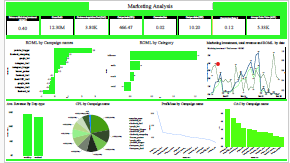

The dashboard page shown, as its layout file describes it:
{"tool":"powerbi","page":{"name":"Page 1","canvas":[3900,2200],"ordinal":0},"visuals":[{"type":"cardVisual","title":"Cost  per leads (CPL)","fields":{"Data":["KPI.CPL"]},"box":[1440,192,448,256],"z":0},{"type":"cardVisual","title":"Cost per clicks (CPC)","fields":{"Data":["KPI.CPC"]},"box":[2400,192,448,256],"z":1000},{"type":"cardVisual","title":"Return on Marketing Investment (ROML)","fields":{"Data":["KPI.ROMI"]},"box":[0,192,448,256],"z":2000},{"type":"cardVisual","title":"Average Order Value (AOV)","fields":{"Data":["KPI.AOV"]},"box":[3360,192,448,256],"z":3000},{"type":"cardVisual","title":"Conversion Rate","fields":{"Data":["KPI.Conversion rate"]},"box":[1920,192,448,256],"z":4000},{"type":"clusteredBarChart","fields":{"Y":["KPI.ROMI"],"Category":["Marketing.campaign_name"]},"box":[0,608,1376,736],"z":5000},{"type":"lineChart","fields":{"Y":["Dax Measures.Marketing investment","Dax Measures.Total revenue"],"Category":["Marketing.c_date.Variation.Date Hierarchy.Year"],"Y2":["KPI.ROMI"]},"box":[2780,608,1120,736],"z":6000},{"type":"clusteredBarChart","fields":{"Y":["KPI.ROMI"],"Category":["Marketing.category"]},"box":[1376,608,1408,736],"z":7000},{"type":"cardVisual","title":"Conversion Rate 2","fields":{"Data":["KPI.conversion 2"]},"box":[2880,192,448,256],"z":8000},{"type":"clusteredColumnChart","fields":{"Y":["Marketing.revenue"],"Category":["Calendar.daytype"]},"box":[0,1472,640,704],"z":9000},{"type":"textbox","box":[1152,0,1728,96],"z":10000},{"type":"textbox","box":[-4,512,3904,96],"z":11000},{"type":"textbox","box":[-4,1376,3904,96],"z":12000},{"type":"pieChart","fields":{"Category":["Marketing.campaign_name"],"Y":["KPI.CPL"]},"box":[640,1472,1344,704],"z":13000},{"type":"lineChart","fields":{"Category":["Marketing.campaign_name"],"Y":["KPI.Gross profit"]},"box":[1984,1472,976,704],"z":14000},{"type":"clusteredColumnChart","fields":{"Category":["Marketing.campaign_name"],"Y":["KPI.CAC"]},"box":[2956,1472,944,704],"z":15000},{"type":"cardVisual","title":"Customer Acquisition Cost (CAC)","fields":{"Data":["KPI.CAC"]},"box":[960,192,448,256],"z":16000},{"type":"cardVisual","title":"Gross Profit","fields":{"Data":["KPI.Gross profit"]},"box":[480,192,448,256],"z":17000}]}

Visuals, with their boxes in screenshot pixels (x1, y1, x2, y2), scaled from the page's 3900x2200 canvas onto the 290x163 screenshot:
"Cost  per leads (CPL)" cardVisual: 107, 14, 140, 33
"Cost per clicks (CPC)" cardVisual: 178, 14, 212, 33
"Return on Marketing Investment (ROML)" cardVisual: 0, 14, 33, 33
"Average Order Value (AOV)" cardVisual: 250, 14, 283, 33
"Conversion Rate" cardVisual: 143, 14, 176, 33
clusteredBarChart - KPI.ROMI x Marketing.campaign_name: 0, 45, 102, 100
lineChart - Dax Measures.Marketing investment x Dax Measures.Total revenue: 207, 45, 289, 100
clusteredBarChart - KPI.ROMI x Marketing.category: 102, 45, 207, 100
"Conversion Rate 2" cardVisual: 214, 14, 247, 33
clusteredColumnChart - Marketing.revenue x Calendar.daytype: 0, 109, 48, 161
textbox: 86, 0, 214, 7
textbox: 0, 38, 289, 45
textbox: 0, 102, 289, 109
pieChart - Marketing.campaign_name x KPI.CPL: 48, 109, 148, 161
lineChart - Marketing.campaign_name x KPI.Gross profit: 148, 109, 220, 161
clusteredColumnChart - Marketing.campaign_name x KPI.CAC: 220, 109, 289, 161
"Customer Acquisition Cost (CAC)" cardVisual: 71, 14, 105, 33
"Gross Profit" cardVisual: 36, 14, 69, 33
